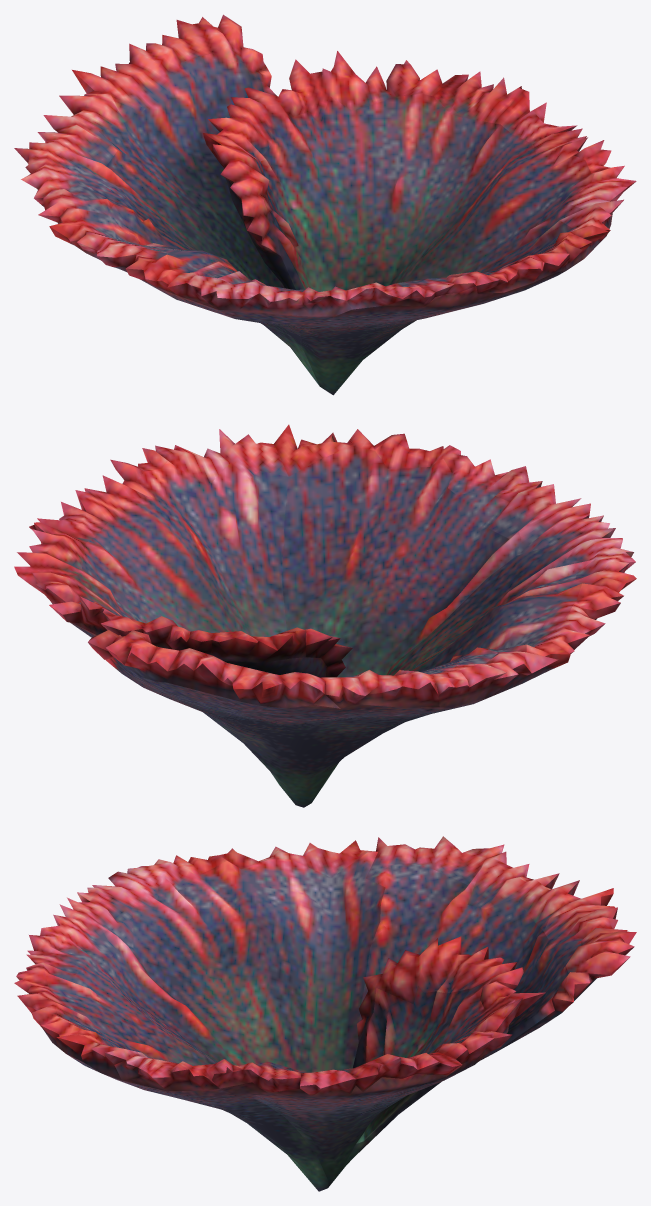
The model's file is Coral V10.fbx.
3 views of the same model, one above another, from view 1: azimuth 30°, elevation 25°; view 2: azimuth 150°, elevation 25°; view 3: azimuth 270°, elevation 25° (orthographic). The views are drawn at different scales.
Parts seen in each view (by area): view 1: Coral V10; view 2: Coral V10; view 3: Coral V10.
Part boxes in pixels (x1,y1,x2,y2): Coral V10: (14,14,636,395); Coral V10: (14,424,636,807); Coral V10: (14,836,636,1191).
Bounding box in the file's own units: 46.16 × 22.87 × 49.56.
